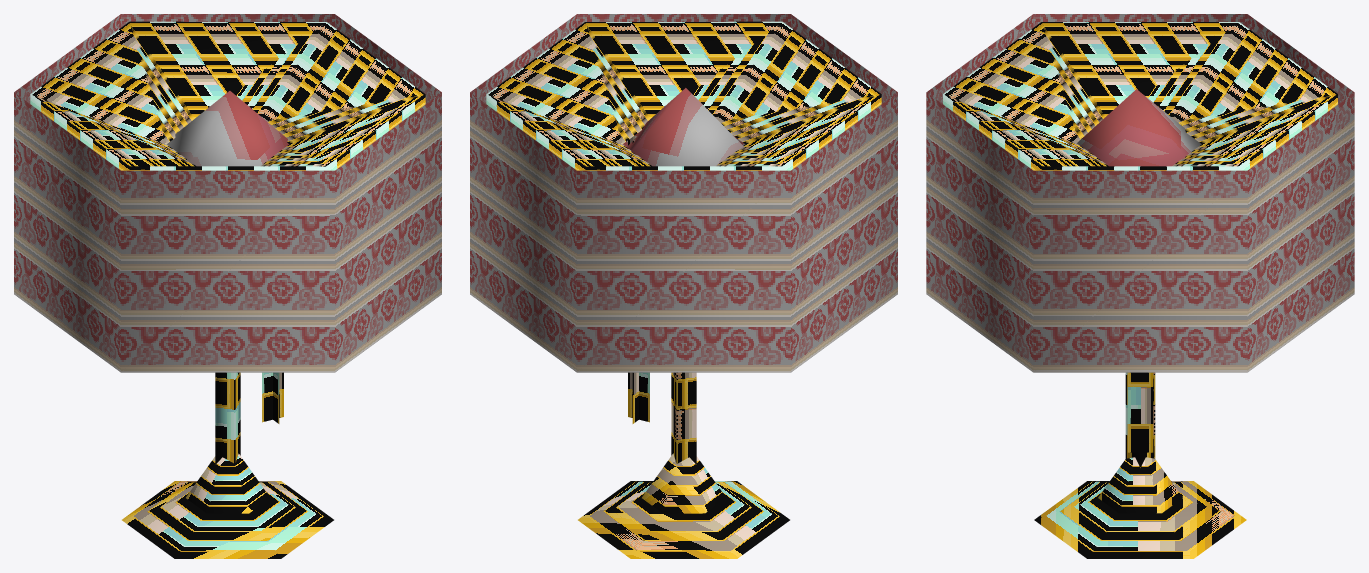
Rendered from 3669kg_ga_lig.gltf.
3 views of the same model, side by side, from view 1: azimuth 30°, elevation 25°; view 2: azimuth 150°, elevation 25°; view 3: azimuth 270°, elevation 25° (orthographic).
Visible parts, largest first — view 1: 3669kg_ga_lig; view 2: 3669kg_ga_lig; view 3: 3669kg_ga_lig.
Boxes of the visible parts, left/top/right/bottom form: 3669kg_ga_lig: left=14, top=14, right=441, bottom=558; 3669kg_ga_lig: left=470, top=14, right=897, bottom=558; 3669kg_ga_lig: left=926, top=14, right=1354, bottom=558.
Bounding box in the file's own units: 0.7578 × 0.9727 × 0.8755.
3 materials, 3 textured.
